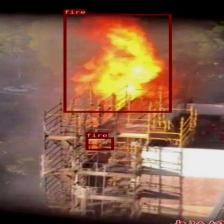fire: (63, 14, 171, 112), (85, 137, 113, 150)
